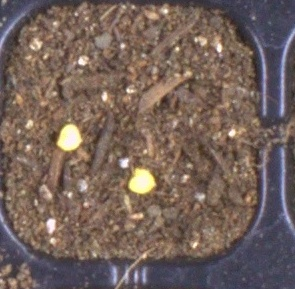chilli seed: (55, 123, 82, 151), (128, 167, 156, 194)
